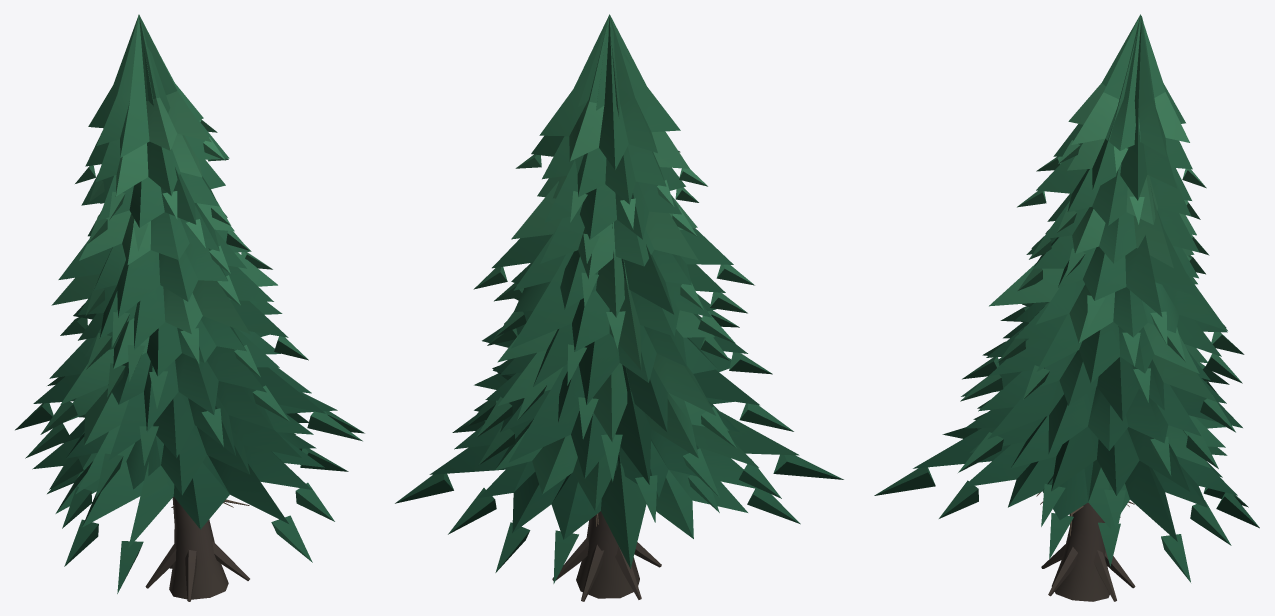
Rendered from SwissPine_B.fbx.
The picture shows the model from 3 angles, left to right: view 1: azimuth 30°, elevation 25°; view 2: azimuth 150°, elevation 25°; view 3: azimuth 270°, elevation 25°; orthographic projection. The views are drawn at different scales.
Parts seen in each view (by area): view 1: SwissPine_B_LOD0; view 2: SwissPine_B_LOD0; view 3: SwissPine_B_LOD0.
Part boxes in pixels (x1,y1,x2,y2): SwissPine_B_LOD0: (15, 14, 364, 601); SwissPine_B_LOD0: (395, 14, 843, 601); SwissPine_B_LOD0: (874, 14, 1259, 601).
Size of what is drawn, in the model's own units: 7.05 by 12.49 by 7.76.
Materials: 1 (1 with a texture image).
